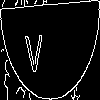V: (25, 25, 43, 73)
